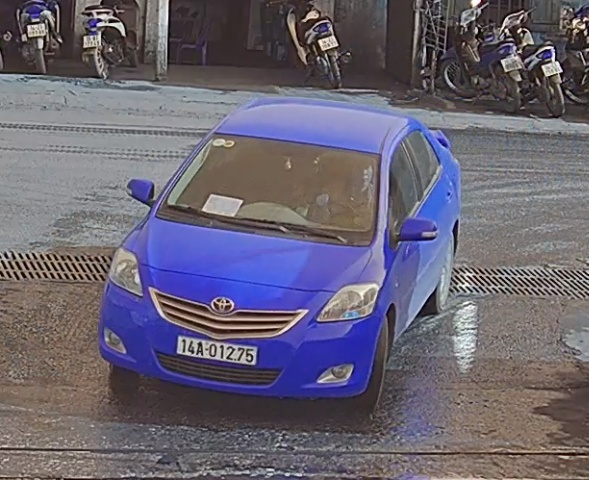vehicle plate: (172, 328, 262, 373)
